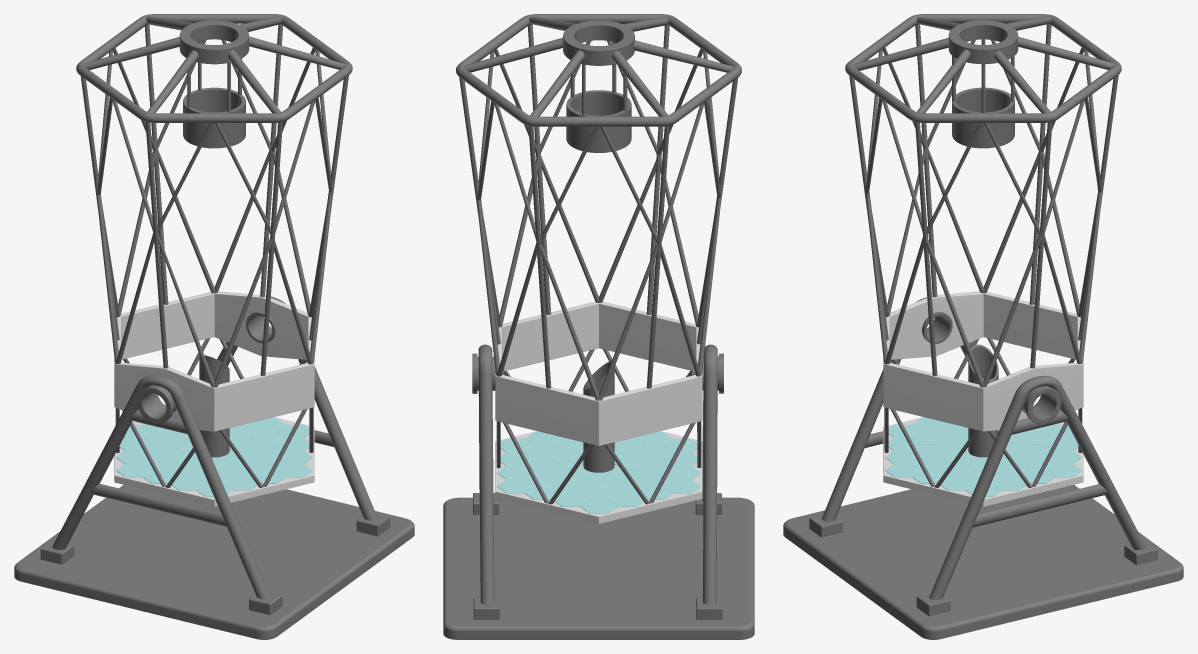
The model's file is Keck_Telescope_Second_Trial.fbx.
3 renders of one model, left to right at view 1: azimuth 30°, elevation 25°; view 2: azimuth 150°, elevation 25°; view 3: azimuth 270°, elevation 25°, orthographic. The views are drawn at different scales.
Parts seen in each view (by area): view 1: Foundation, Elevation_Ring_UV, Legs1 (×2), Spider_Frame, Secondary_M_Bottom, Primary_Mirror, Secondary_M_Top, Nasmyth (×2), Armature2, Leg_4, Leg_3, Leg_1 (+21 smaller); view 2: Foundation, Elevation_Ring_UV, Legs1 (×2), Spider_Frame, Primary_Mirror, Secondary_M_Bottom, Secondary_M_Top, Leg_1, Leg_2, Shell, Leg_4, Leg_5 (+24 smaller); view 3: Foundation, Elevation_Ring_UV, Legs1 (×2), Spider_Frame, Secondary_M_Bottom, Primary_Mirror, Secondary_M_Top, Nasmyth (×2), Armature2, Shell, Leg_5, Leg_6 (+21 smaller).
Part boxes in pixels (bbox=[...]): Foundation: bbox=[14, 485, 414, 639]; Elevation_Ring_UV: bbox=[114, 291, 314, 431]; Legs1 (×2): bbox=[52, 296, 377, 598]; Spider_Frame: bbox=[76, 14, 352, 122]; Secondary_M_Bottom: bbox=[183, 87, 245, 148]; Primary_Mirror: bbox=[114, 417, 314, 506]; Secondary_M_Top: bbox=[179, 20, 249, 64]; Nasmyth (×2): bbox=[137, 312, 275, 423]; Armature2: bbox=[91, 483, 226, 526]; Leg_4: bbox=[260, 122, 282, 375]; Leg_3: bbox=[145, 122, 168, 368]; Leg_1: bbox=[144, 24, 168, 304]; Foundation: bbox=[443, 497, 754, 639]; Elevation_Ring_UV: bbox=[495, 301, 702, 445]; Legs1 (×2): bbox=[478, 344, 717, 604]; Spider_Frame: bbox=[456, 14, 741, 126]; Primary_Mirror: bbox=[495, 431, 702, 523]; Secondary_M_Bottom: bbox=[566, 90, 631, 152]; Secondary_M_Top: bbox=[563, 20, 634, 65]; Leg_1: bbox=[528, 125, 551, 388]; Leg_2: bbox=[646, 125, 669, 388]; Shell: bbox=[583, 360, 614, 472]; Leg_4: bbox=[646, 25, 669, 314]; Leg_5: bbox=[527, 24, 551, 314]; Foundation: bbox=[783, 485, 1183, 639]; Elevation_Ring_UV: bbox=[883, 291, 1083, 431]; Legs1 (×2): bbox=[821, 297, 1145, 599]; Spider_Frame: bbox=[845, 14, 1121, 122]; Secondary_M_Bottom: bbox=[952, 87, 1014, 148]; Primary_Mirror: bbox=[883, 417, 1083, 506]; Secondary_M_Top: bbox=[948, 20, 1018, 64]; Nasmyth (×2): bbox=[922, 312, 1061, 424]; Armature2: bbox=[972, 484, 1107, 527]; Shell: bbox=[968, 344, 998, 457]; Leg_5: bbox=[915, 122, 937, 375]; Leg_6: bbox=[1030, 122, 1052, 368].
Size of the model in its own units: 17.32 by 24.85 by 17.32.
